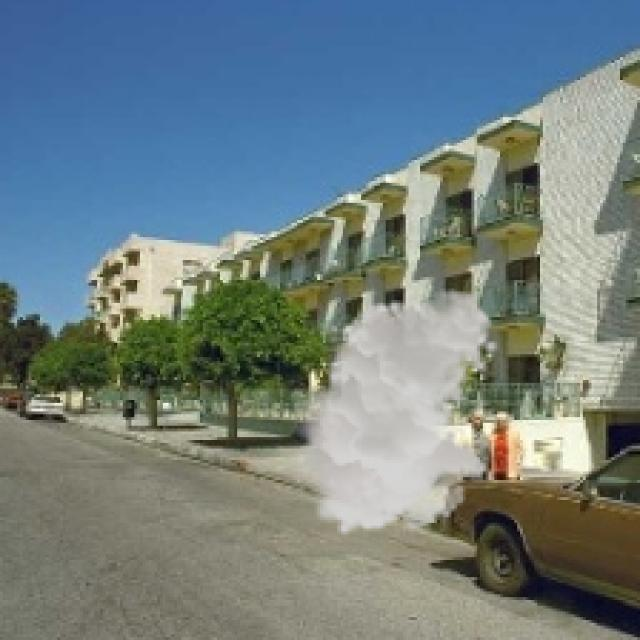smoke: (286, 289, 500, 537)
